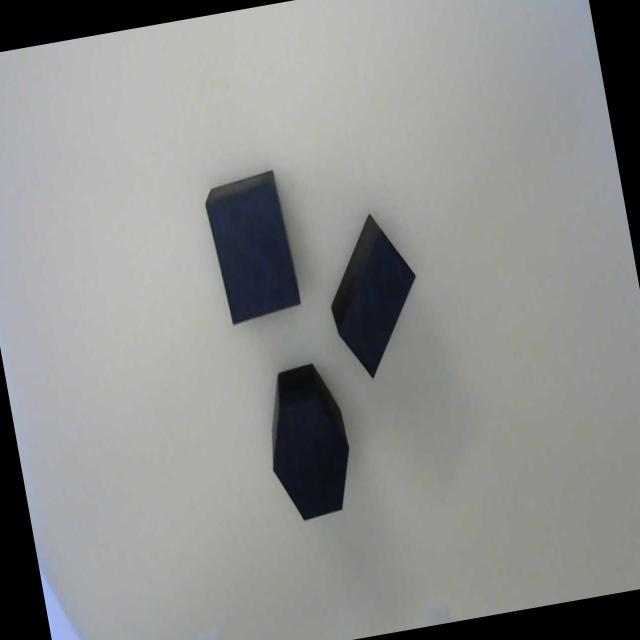hexagon: (261, 392, 361, 527)
rectangle: (337, 228, 415, 377)
square: (206, 181, 301, 325)
